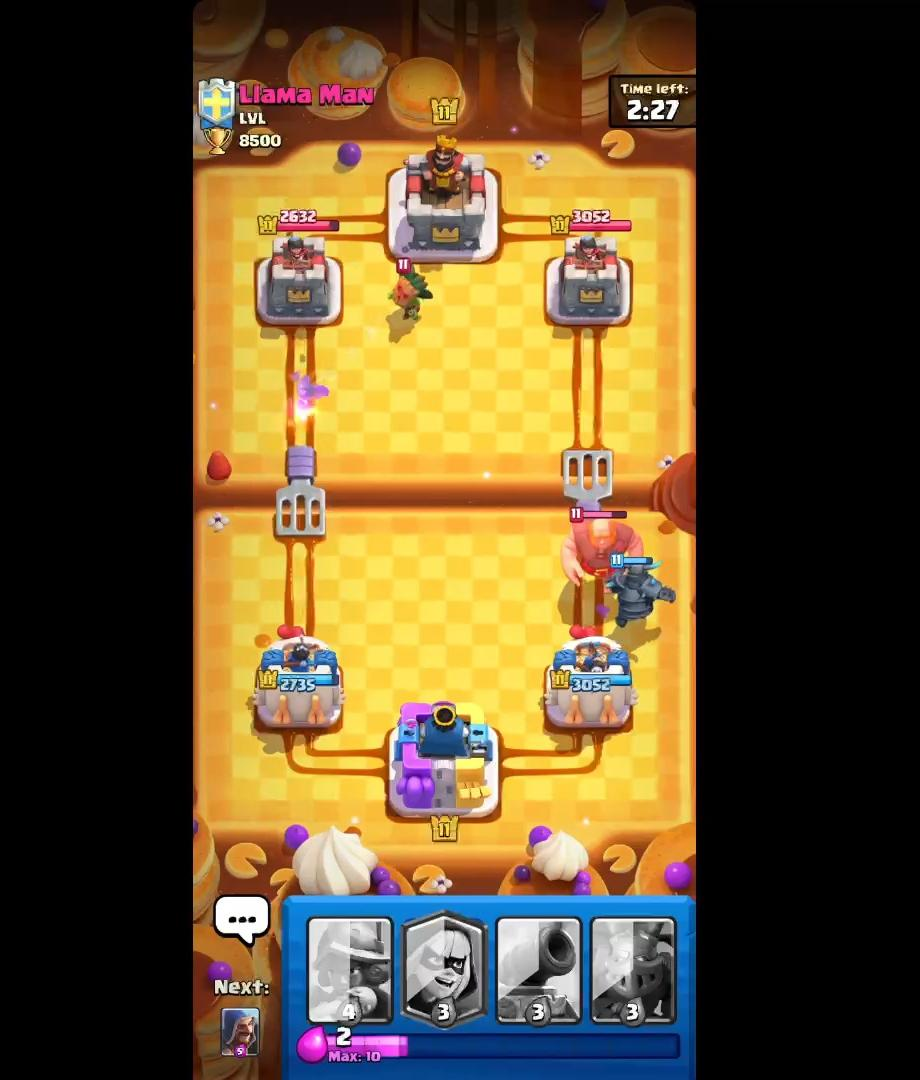Dart Goblin: (383, 255, 438, 332)
Giant: (558, 503, 647, 599)
